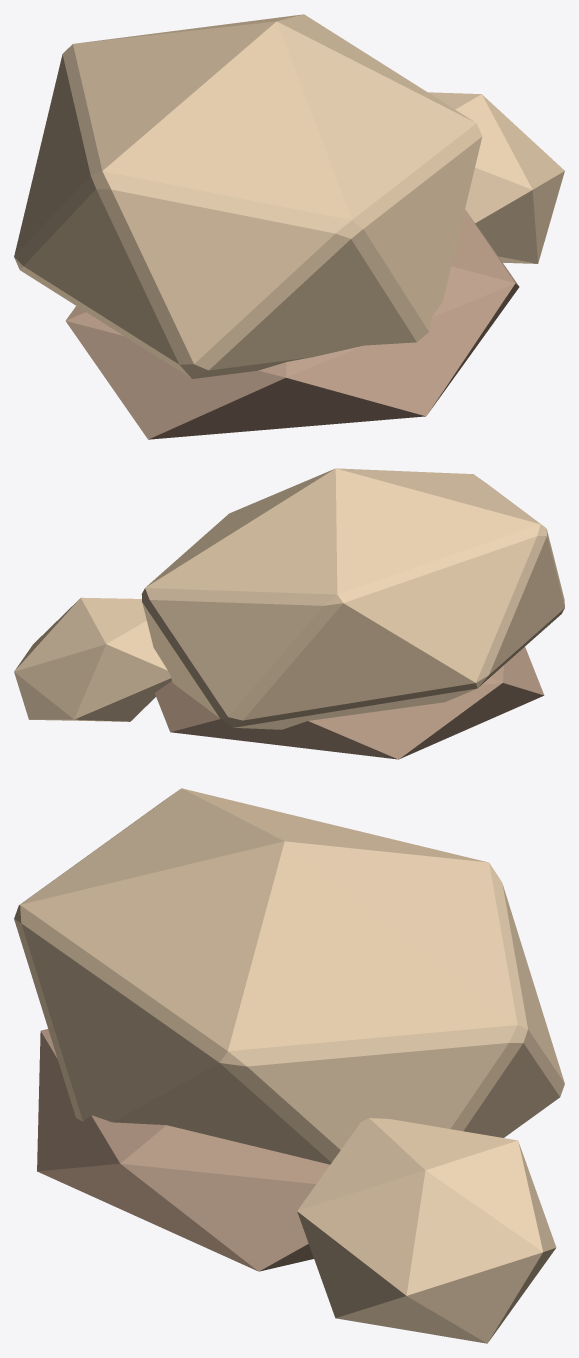
File: rock_desert_large.glb
3 views of the same model, one above another, from view 1: azimuth 30°, elevation 25°; view 2: azimuth 150°, elevation 25°; view 3: azimuth 270°, elevation 25° (orthographic). The views are drawn at different scales.
Visible parts, largest first — view 1: Rock, RockBase, RockChip; view 2: Rock, RockChip, RockBase; view 3: Rock, RockChip, RockBase.
Part boxes in pixels (x1,y1,x2,y2): Rock: (14, 14, 482, 378); RockBase: (65, 209, 519, 439); RockChip: (428, 92, 564, 263); Rock: (141, 468, 564, 729); RockChip: (14, 597, 171, 721); RockBase: (155, 647, 544, 759); Rock: (14, 788, 564, 1164); RockChip: (297, 1118, 556, 1343); RockBase: (37, 1029, 329, 1271).
Size of the model in its own units: 1.47 by 0.8624 by 1.19.
